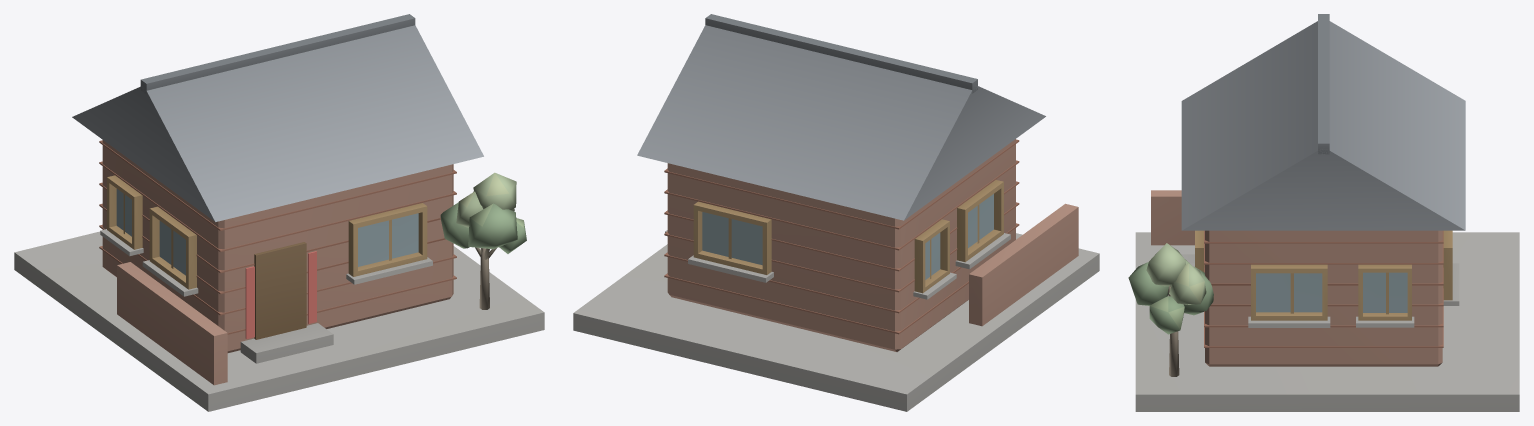
File: brick.glb
3 renders of one model, left to right at view 1: azimuth 30°, elevation 25°; view 2: azimuth 150°, elevation 25°; view 3: azimuth 270°, elevation 25°, orthographic.
Visible parts, largest first — view 1: brick; view 2: brick; view 3: brick.
Boxes of the visible parts, bbox=[...] form: brick: bbox=[14, 14, 544, 411]; brick: bbox=[573, 14, 1099, 411]; brick: bbox=[1128, 14, 1519, 411].
Size of the model in its own units: 1 by 0.72 by 1.02.
